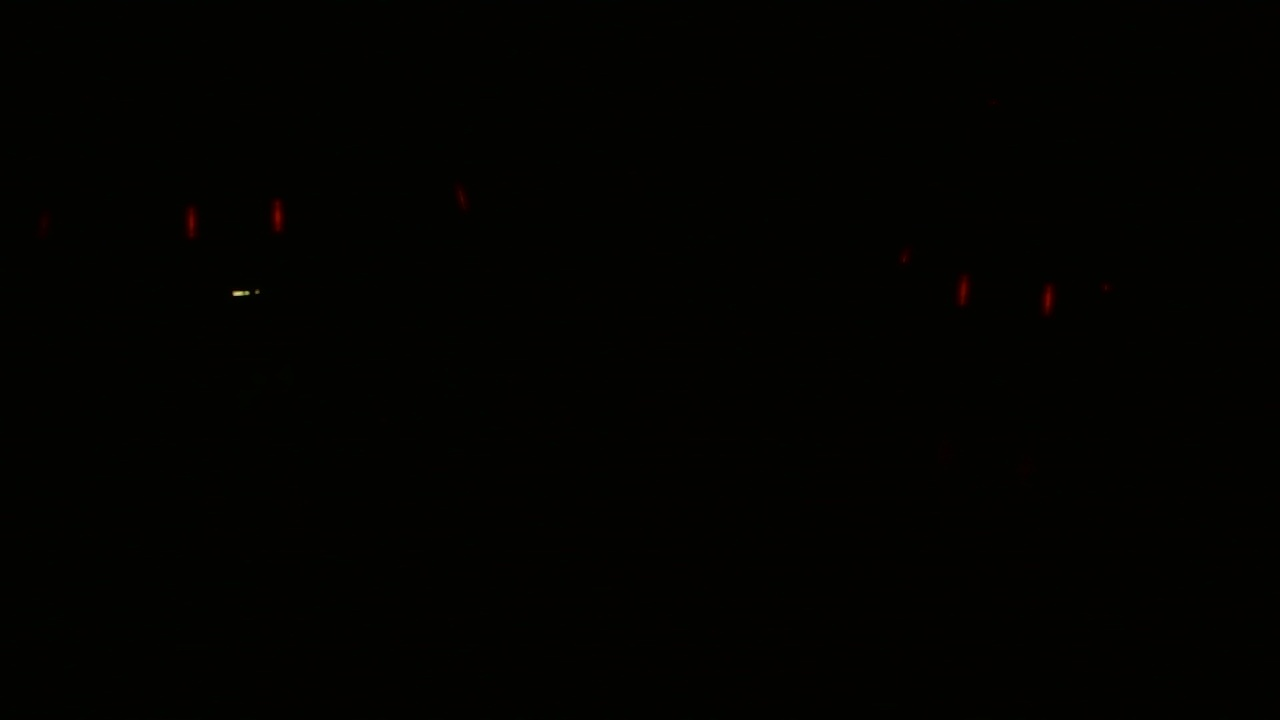pair1: (952, 266, 1056, 320), (185, 200, 285, 239)
